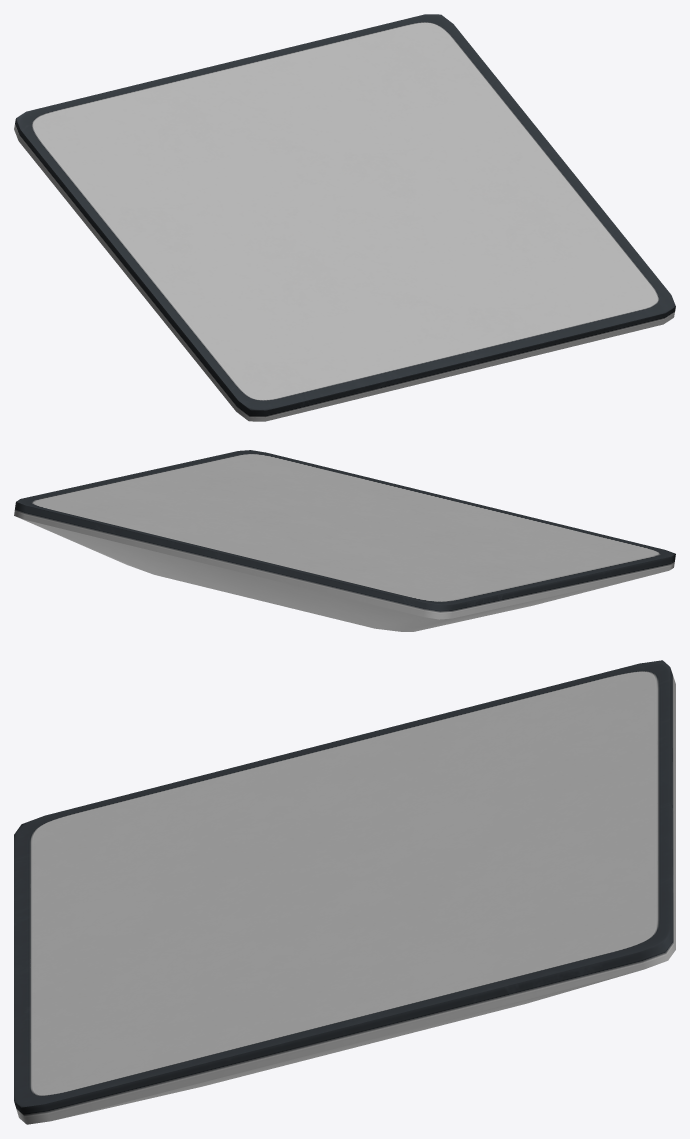
The model's file is starlink_mini_dish copy.glb.
The picture shows the model from 3 angles, top to bottom: view 1: azimuth 30°, elevation 25°; view 2: azimuth 150°, elevation 25°; view 3: azimuth 270°, elevation 25°; orthographic projection. The views are drawn at different scales.
Parts seen in each view (by area): view 1: Object_2; view 2: Object_2; view 3: Object_2.
Part boxes in pixels (box(x1,y1,x2,y2)): Object_2: box(14, 14, 675, 421); Object_2: box(14, 450, 675, 631); Object_2: box(14, 660, 675, 1124).
Bounding box in the file's own units: 199 × 67.86 × 193.
1 material, 1 textured.
